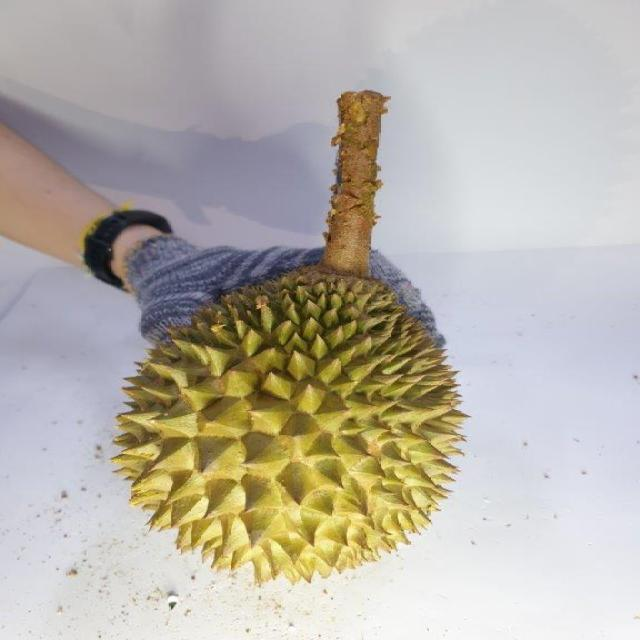mature: (117, 259, 473, 585)
